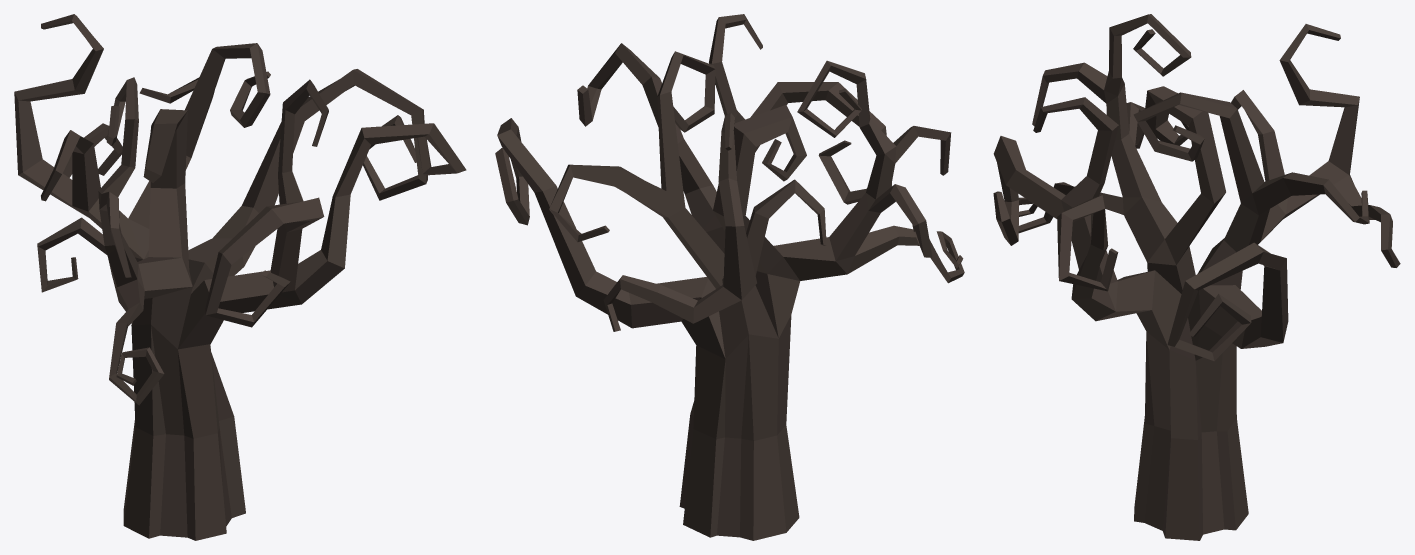
File: Tree Type0 02.glb
The picture shows the model from 3 angles, left to right: view 1: azimuth 30°, elevation 25°; view 2: azimuth 150°, elevation 25°; view 3: azimuth 270°, elevation 25°; orthographic projection. The views are drawn at different scales.
Parts seen in each view (by area): view 1: Tree_Type0_02_mesh; view 2: Tree_Type0_02_mesh; view 3: Tree_Type0_02_mesh.
Part boxes in pixels (left/top/right/bottom): Tree_Type0_02_mesh: left=14, top=14, right=466, bottom=540; Tree_Type0_02_mesh: left=495, top=14, right=964, bottom=540; Tree_Type0_02_mesh: left=993, top=14, right=1400, bottom=540.
Size of the model in its own units: 3.5 by 3.81 by 3.02.
Materials: 1 (1 with a texture image).
